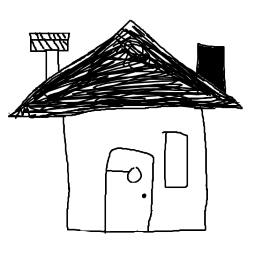chimney: (21, 19, 75, 76), (190, 37, 233, 97)
door: (95, 139, 159, 240)
open_window: (155, 122, 197, 195)
shaded_roof: (7, 11, 242, 125)
wall: (54, 100, 218, 241)
